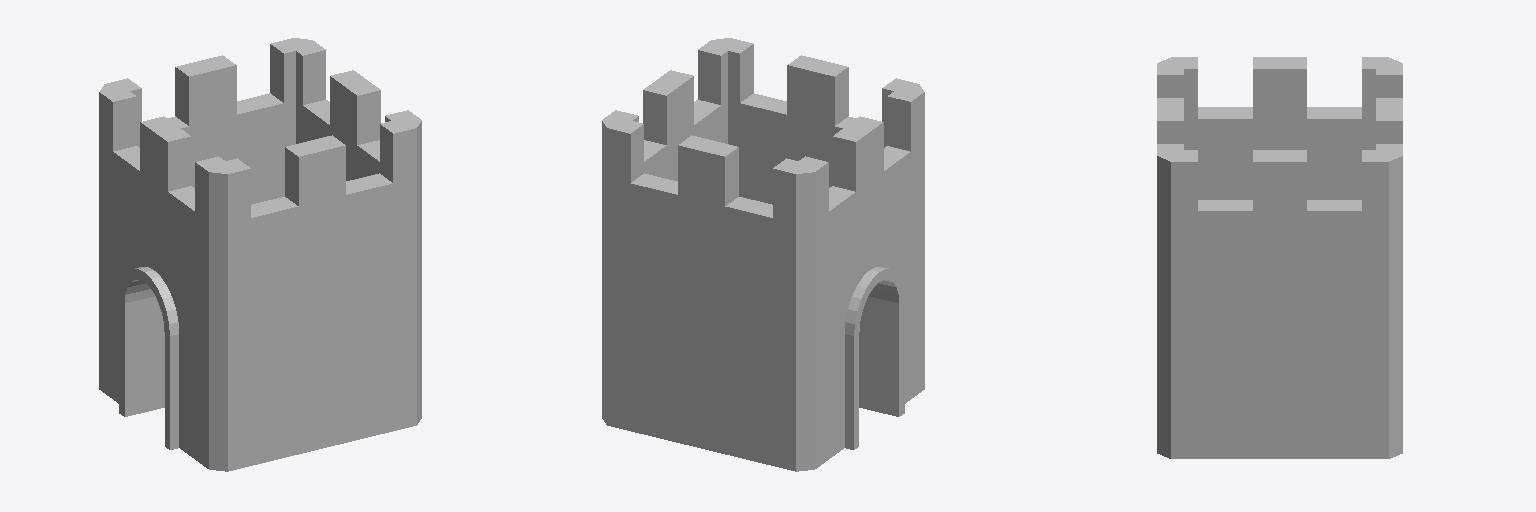
The model's file is capstone-nonuse.obj.
3 renders of one model, left to right at view 1: azimuth 30°, elevation 25°; view 2: azimuth 150°, elevation 25°; view 3: azimuth 270°, elevation 25°, orthographic.
Bounding box in the file's own units: 1.18 × 1.5 × 1.12.